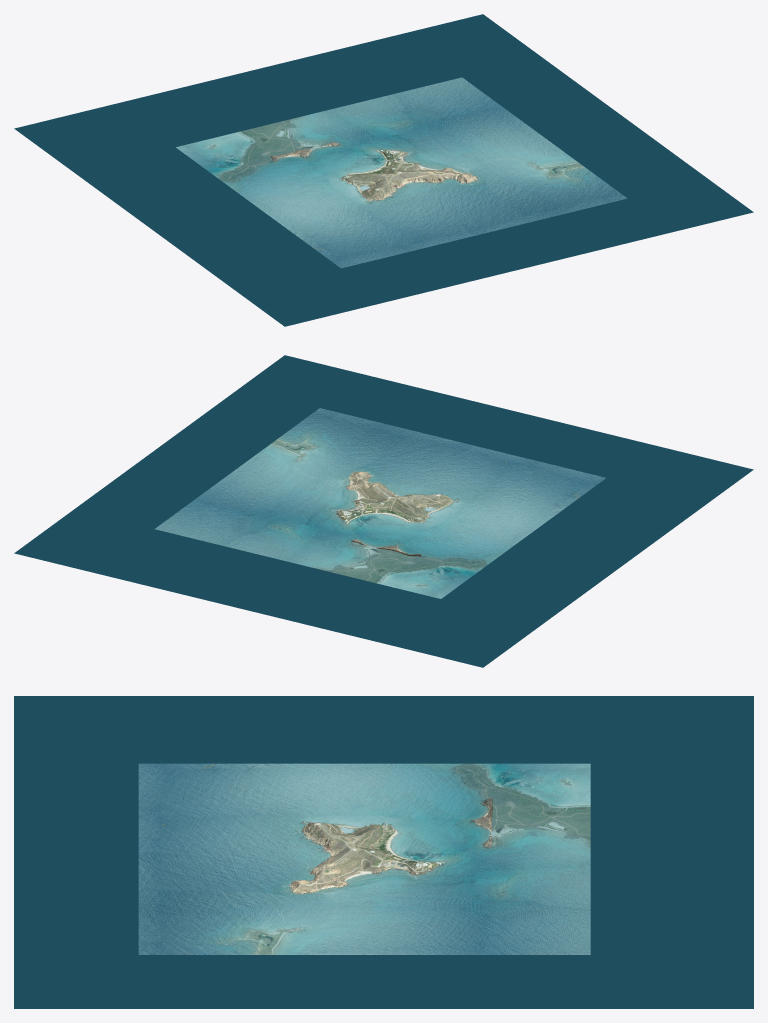
The model's file is little_saint_james.glb.
3 views of the same model, one above another, from view 1: azimuth 30°, elevation 25°; view 2: azimuth 150°, elevation 25°; view 3: azimuth 270°, elevation 25° (orthographic). The views are drawn at different scales.
Parts seen in each view (by area): view 1: Ocean | deep-water surround, Aerial imagery | reefs and surrounding water, Ocean | animated translucent Caribbean waves; view 2: Ocean | deep-water surround, Aerial imagery | reefs and surrounding water, Ocean | animated translucent Caribbean waves; view 3: Ocean | deep-water surround, Aerial imagery | reefs and surrounding water, Ocean | animated translucent Caribbean waves.
Boxes of the visible parts, x1,y1,x2,y2 form: Ocean | deep-water surround: [14, 14, 753, 326]; Aerial imagery | reefs and surrounding water: [176, 77, 627, 268]; Ocean | animated translucent Caribbean waves: [176, 77, 626, 267]; Ocean | deep-water surround: [14, 355, 753, 667]; Aerial imagery | reefs and surrounding water: [154, 408, 605, 598]; Ocean | animated translucent Caribbean waves: [155, 408, 605, 598]; Ocean | deep-water surround: [14, 696, 753, 1008]; Aerial imagery | reefs and surrounding water: [138, 763, 590, 954]; Ocean | animated translucent Caribbean waves: [139, 764, 590, 954].
Bounding box in the file's own units: 3600 × 50.72 × 3600.
4 materials, 1 textured.
